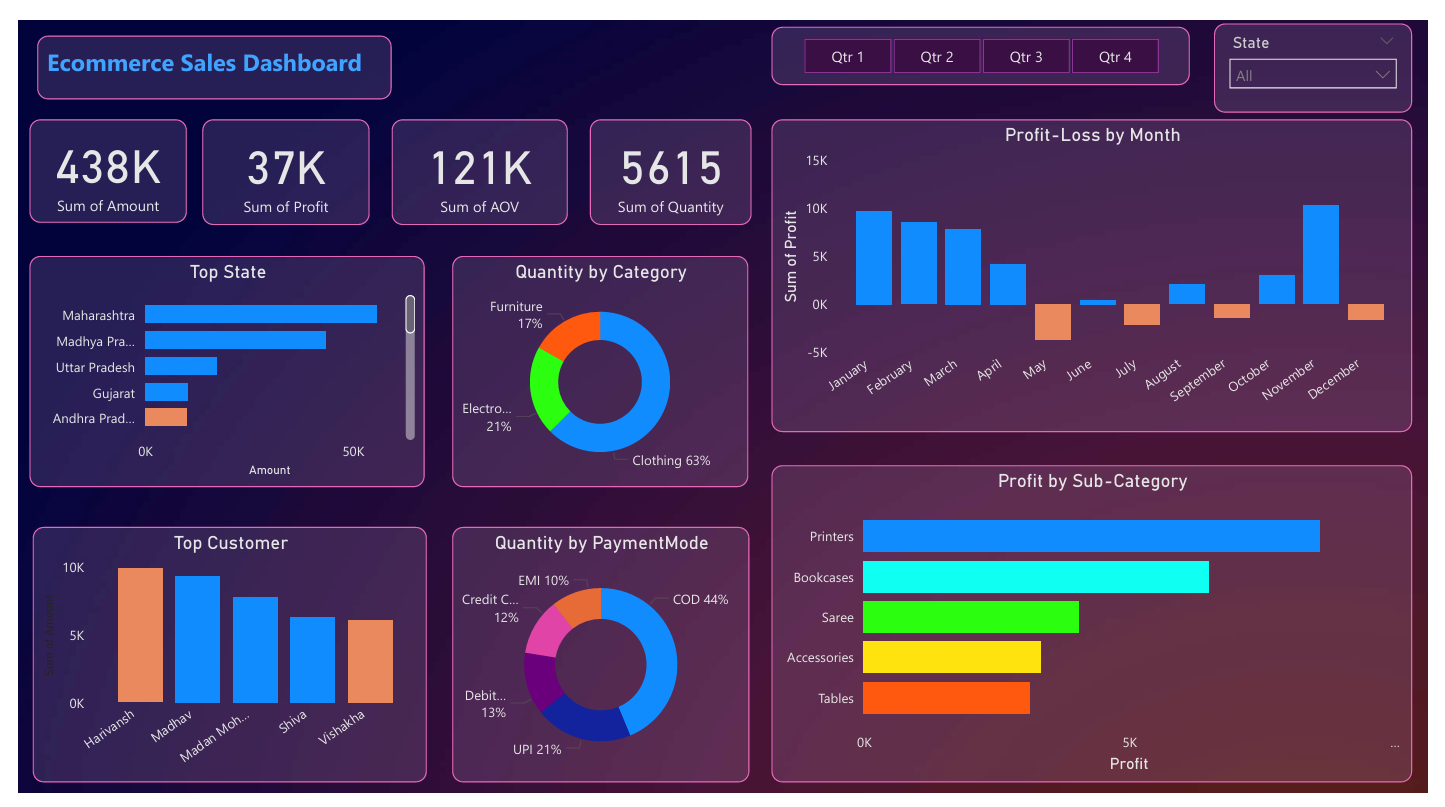

The page's visual inventory and layout, read from the dashboard file:
{"tool":"powerbi","page":{"name":"Page 1","canvas":[1280,720],"ordinal":0},"visuals":[{"type":"textbox","box":[17.1,21.4,321.4,57.1],"z":0},{"type":"columnChart","title":"Profit-Loss by Month","fields":{"Category":["Orders.Order Date.Variation.Date Hierarchy.Month"],"Y":["Sum(Details.Profit)"]},"box":[684.3,97.1,581.4,284.3],"z":1000},{"type":"barChart","title":"Top State","fields":{"Category":["Orders.State"],"Y":["Sum(Details.Amount)"]},"box":[10,221.4,358.6,210],"z":2000},{"type":"donutChart","title":"Quantity by Category","fields":{"Category":["Details.Category"],"Y":["Sum(Details.Quantity)"]},"box":[394.3,221.4,268.6,210],"z":3000},{"type":"donutChart","title":"Quantity by PaymentMode","fields":{"Category":["Details.PaymentMode"],"Y":["Sum(Details.Quantity)"]},"box":[394.3,467.1,270,231.4],"z":4000},{"type":"card","fields":{"Values":["Sum(Details.Amount)"]},"box":[10,97.1,142.9,94.3],"z":5000},{"type":"card","fields":{"Values":["Sum(Details.AOV)"]},"box":[338.6,97.1,160,95.7],"z":6000},{"type":"card","fields":{"Values":["Sum(Details.Quantity)"]},"box":[518.6,97.1,147.1,95.7],"z":7000},{"type":"card","fields":{"Values":["Sum(Details.Profit)"]},"box":[167.1,97.1,151.4,95.7],"z":8000},{"type":"barChart","title":"Profit by Sub-Category","fields":{"Category":["Details.Sub-Category"],"Y":["Sum(Details.Profit)"]},"box":[684.1,411.4,581.5,287.1],"z":9000},{"type":"columnChart","title":"Top Customer","fields":{"Category":["Orders.CustomerName"],"Y":["Sum(Details.Amount)"]},"box":[12.9,467.1,358.6,231.4],"z":10000},{"type":"slicer","fields":{"Values":["Orders.Order Date.Variation.Date Hierarchy.Quarter"]},"box":[684.3,12.9,380,52.9],"z":11000},{"type":"slicer","fields":{"Values":["Orders.State"]},"box":[1085.7,10,180,81.4],"z":12000}]}

Visuals, with their boxes in screenshot pixels (x1, y1, x2, y2), scaled from the page's 1280x720 canvas onto the 1445x807 screenshot:
textbox: box(19, 24, 382, 88)
"Profit-Loss by Month" columnChart: box(773, 109, 1429, 427)
"Top State" barChart: box(11, 248, 416, 484)
"Quantity by Category" donutChart: box(445, 248, 748, 484)
"Quantity by PaymentMode" donutChart: box(445, 524, 750, 783)
card - Sum(Details.Amount): box(11, 109, 173, 215)
card - Sum(Details.AOV): box(382, 109, 563, 216)
card - Sum(Details.Quantity): box(585, 109, 752, 216)
card - Sum(Details.Profit): box(189, 109, 360, 216)
"Profit by Sub-Category" barChart: box(772, 461, 1429, 783)
"Top Customer" columnChart: box(15, 524, 419, 783)
slicer - Orders.Order Date.Variation.Date Hierarchy.Quarter: box(773, 14, 1201, 74)
slicer - Orders.State: box(1226, 11, 1429, 102)
